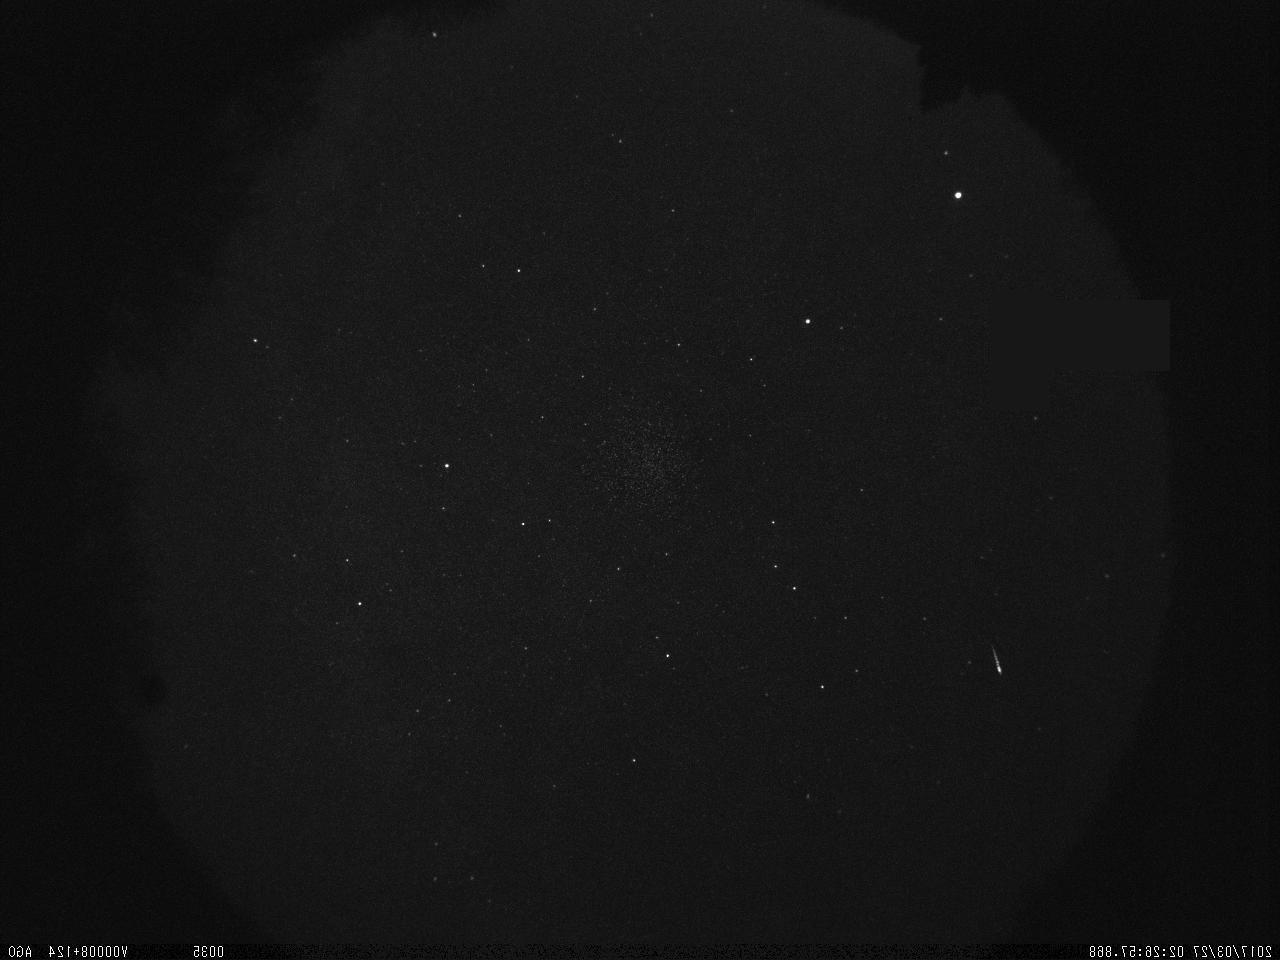meteor: (979, 634, 1013, 682)
